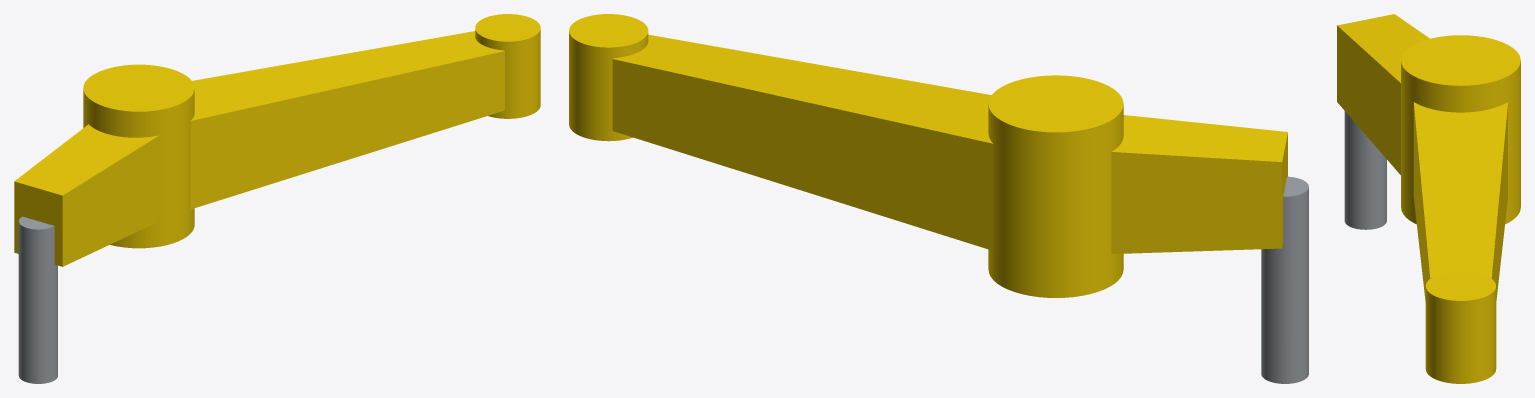
The picture shows the model from 3 angles, left to right: view 1: azimuth 30°, elevation 25°; view 2: azimuth 150°, elevation 25°; view 3: azimuth 270°, elevation 25°; orthographic projection. The views are drawn at different scales.
Visible parts, largest first — view 1: upper_arm, rear_lever, elbow_hub, rear_pin, wrist_boss; view 2: upper_arm, elbow_hub, rear_lever, rear_pin, wrist_boss; view 3: upper_arm, elbow_hub, rear_lever, wrist_boss, rear_pin.
Boxes of the visible parts, bbox=[...] form: upper_arm: bbox=[190, 31, 504, 209]; rear_lever: bbox=[14, 124, 159, 266]; elbow_hub: bbox=[83, 64, 194, 248]; rear_pin: bbox=[18, 216, 57, 383]; wrist_boss: bbox=[475, 14, 540, 118]; upper_arm: bbox=[612, 34, 993, 250]; elbow_hub: bbox=[988, 75, 1123, 297]; rear_lever: bbox=[1111, 115, 1287, 254]; rear_pin: bbox=[1261, 176, 1308, 383]; wrist_boss: bbox=[569, 14, 648, 141]; upper_arm: bbox=[1413, 102, 1507, 301]; elbow_hub: bbox=[1401, 35, 1520, 224]; rear_lever: bbox=[1337, 14, 1429, 174]; wrist_boss: bbox=[1425, 271, 1496, 383]; rear_pin: bbox=[1344, 111, 1386, 229].
Bounding box in the file's own units: 1.97 × 0.74 × 0.5214.
